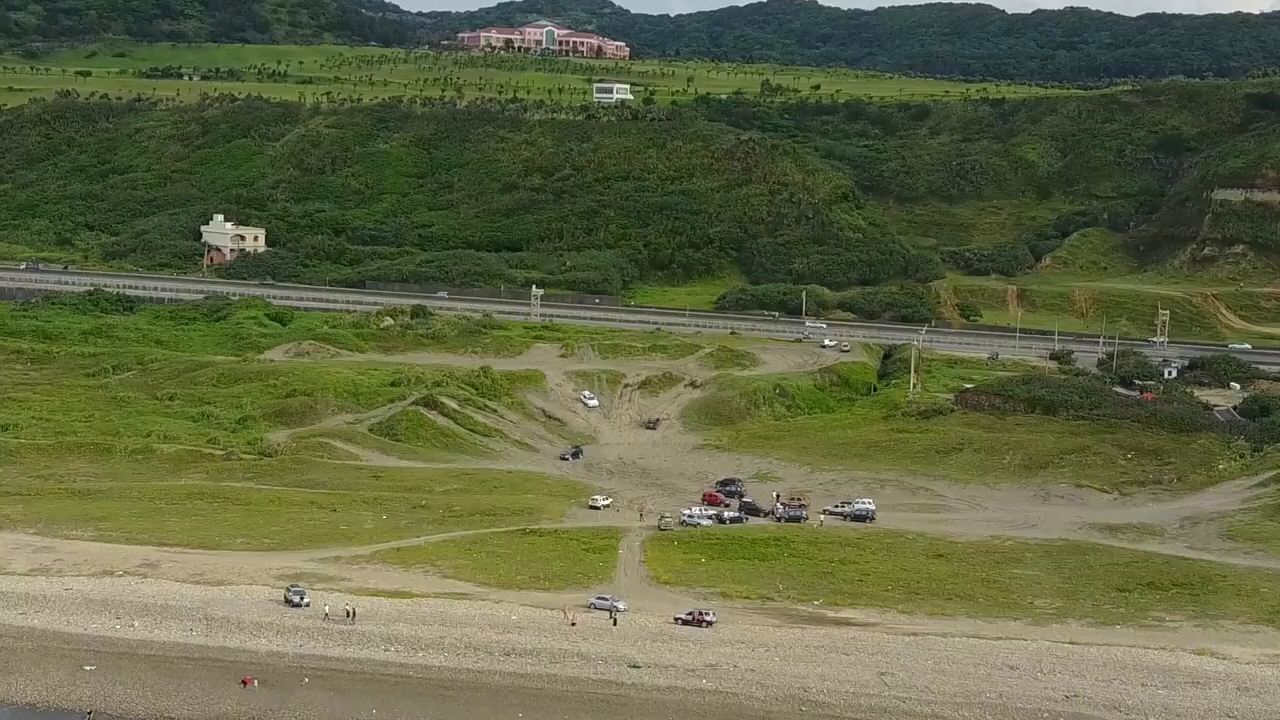araba: (674, 608, 717, 627), (280, 582, 311, 608), (585, 593, 626, 612), (701, 489, 735, 510), (844, 507, 877, 527), (559, 444, 589, 462), (580, 386, 602, 410), (824, 501, 849, 522), (682, 511, 713, 527), (781, 492, 814, 507), (776, 508, 811, 522), (590, 494, 616, 509), (722, 484, 747, 498), (801, 317, 830, 329), (1227, 340, 1254, 352), (646, 413, 664, 429), (857, 495, 876, 509), (839, 337, 854, 354)
insan: (317, 600, 333, 623), (815, 509, 831, 530), (635, 503, 649, 525), (340, 601, 352, 622), (766, 484, 779, 503), (351, 603, 359, 622), (609, 607, 616, 622), (777, 488, 782, 508), (613, 610, 618, 626)
